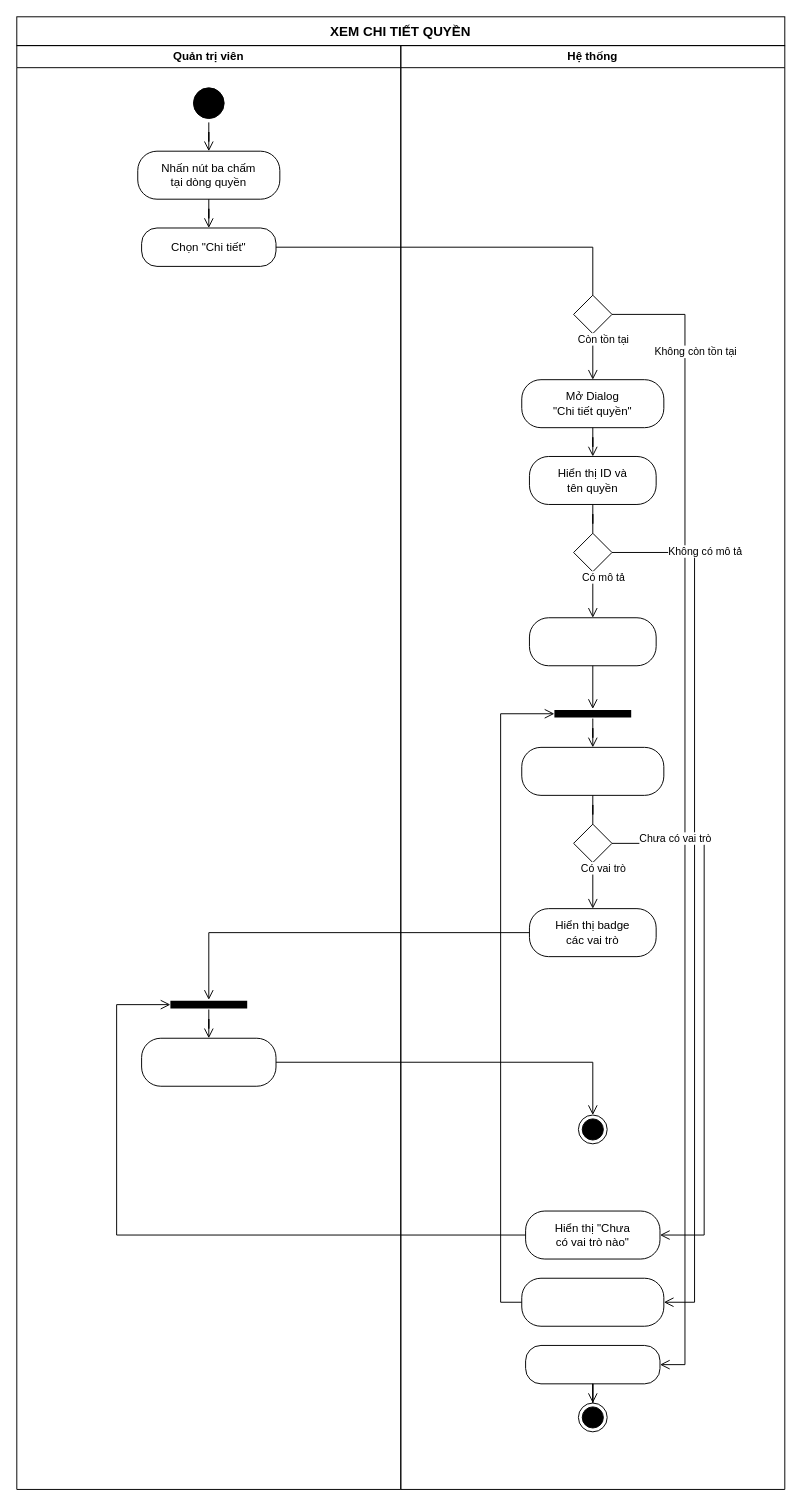
The diagram is 802 pixels wide and 1506 high, and some of its shapes have lost their labels. Here are the shapes that lost their labels. From the top down, the centre of each, then its label:
(592,641): Hiển thị mô tả quyền
(592,770): Hiển thị vai trò sở hữu quyền này
(208,1061): Đóng dialog sau khi xem xong
(592,1301): Hiển thị "Không có mô tả"
(592,1364): Dialog không mở
